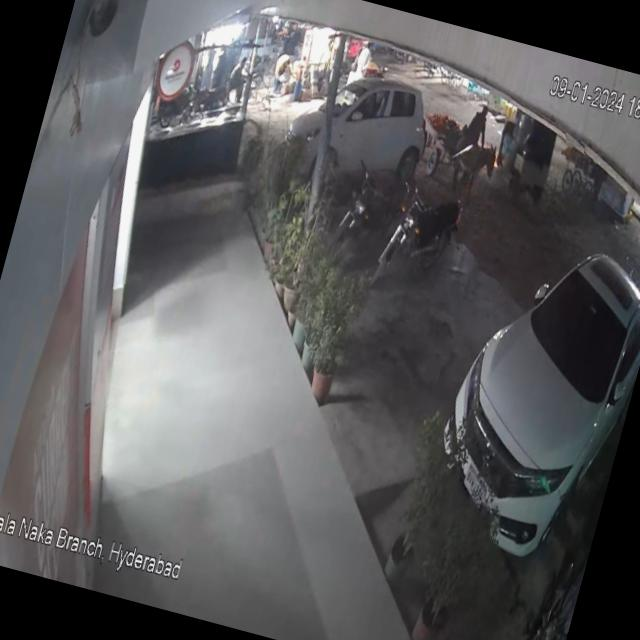Car: (412, 208, 640, 592), (274, 58, 454, 215)
Motorcycle: (371, 168, 473, 310), (320, 146, 415, 270)
